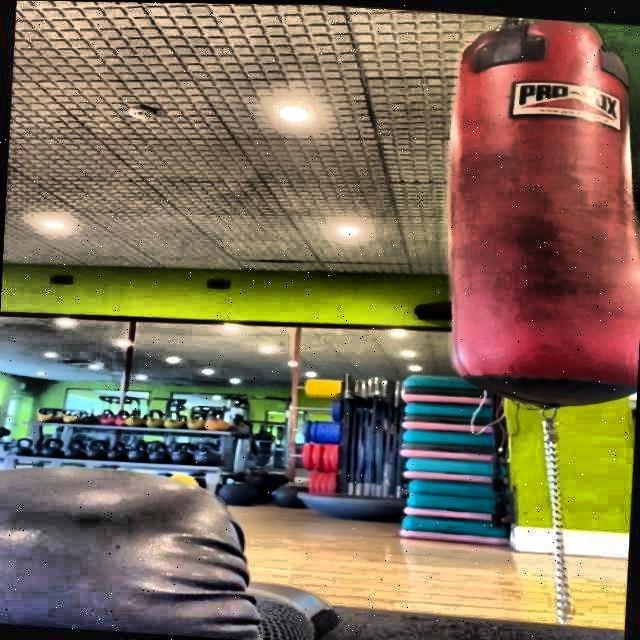boxing-bag: (438, 11, 640, 412)
